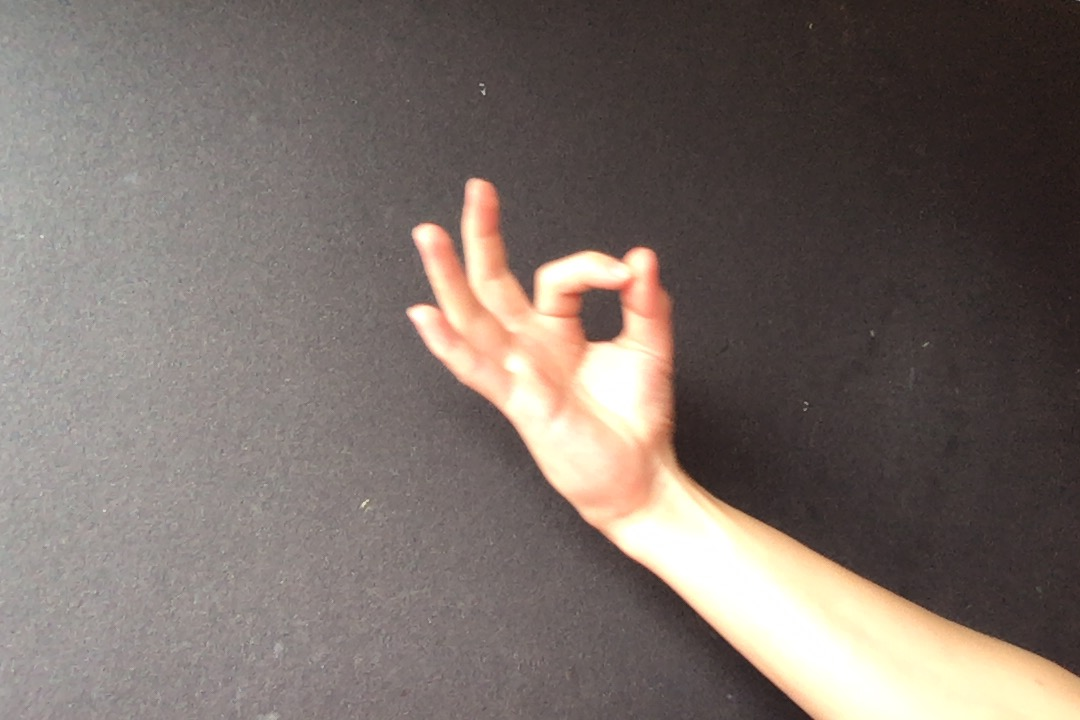oksign: (394, 172, 686, 522)
